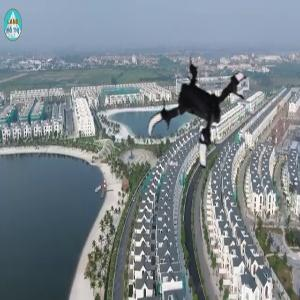drone: (140, 44, 267, 171)
